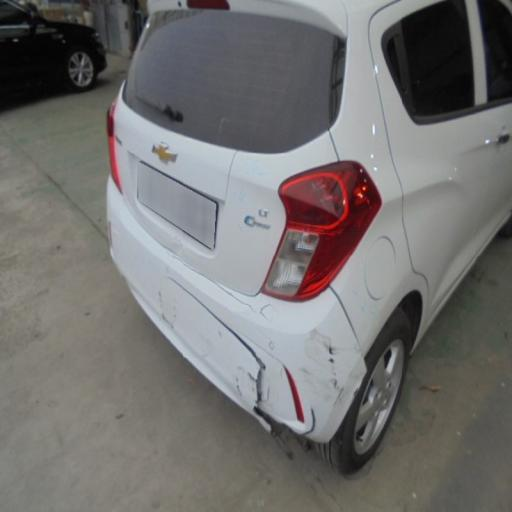scratch: (170, 266, 370, 453)
